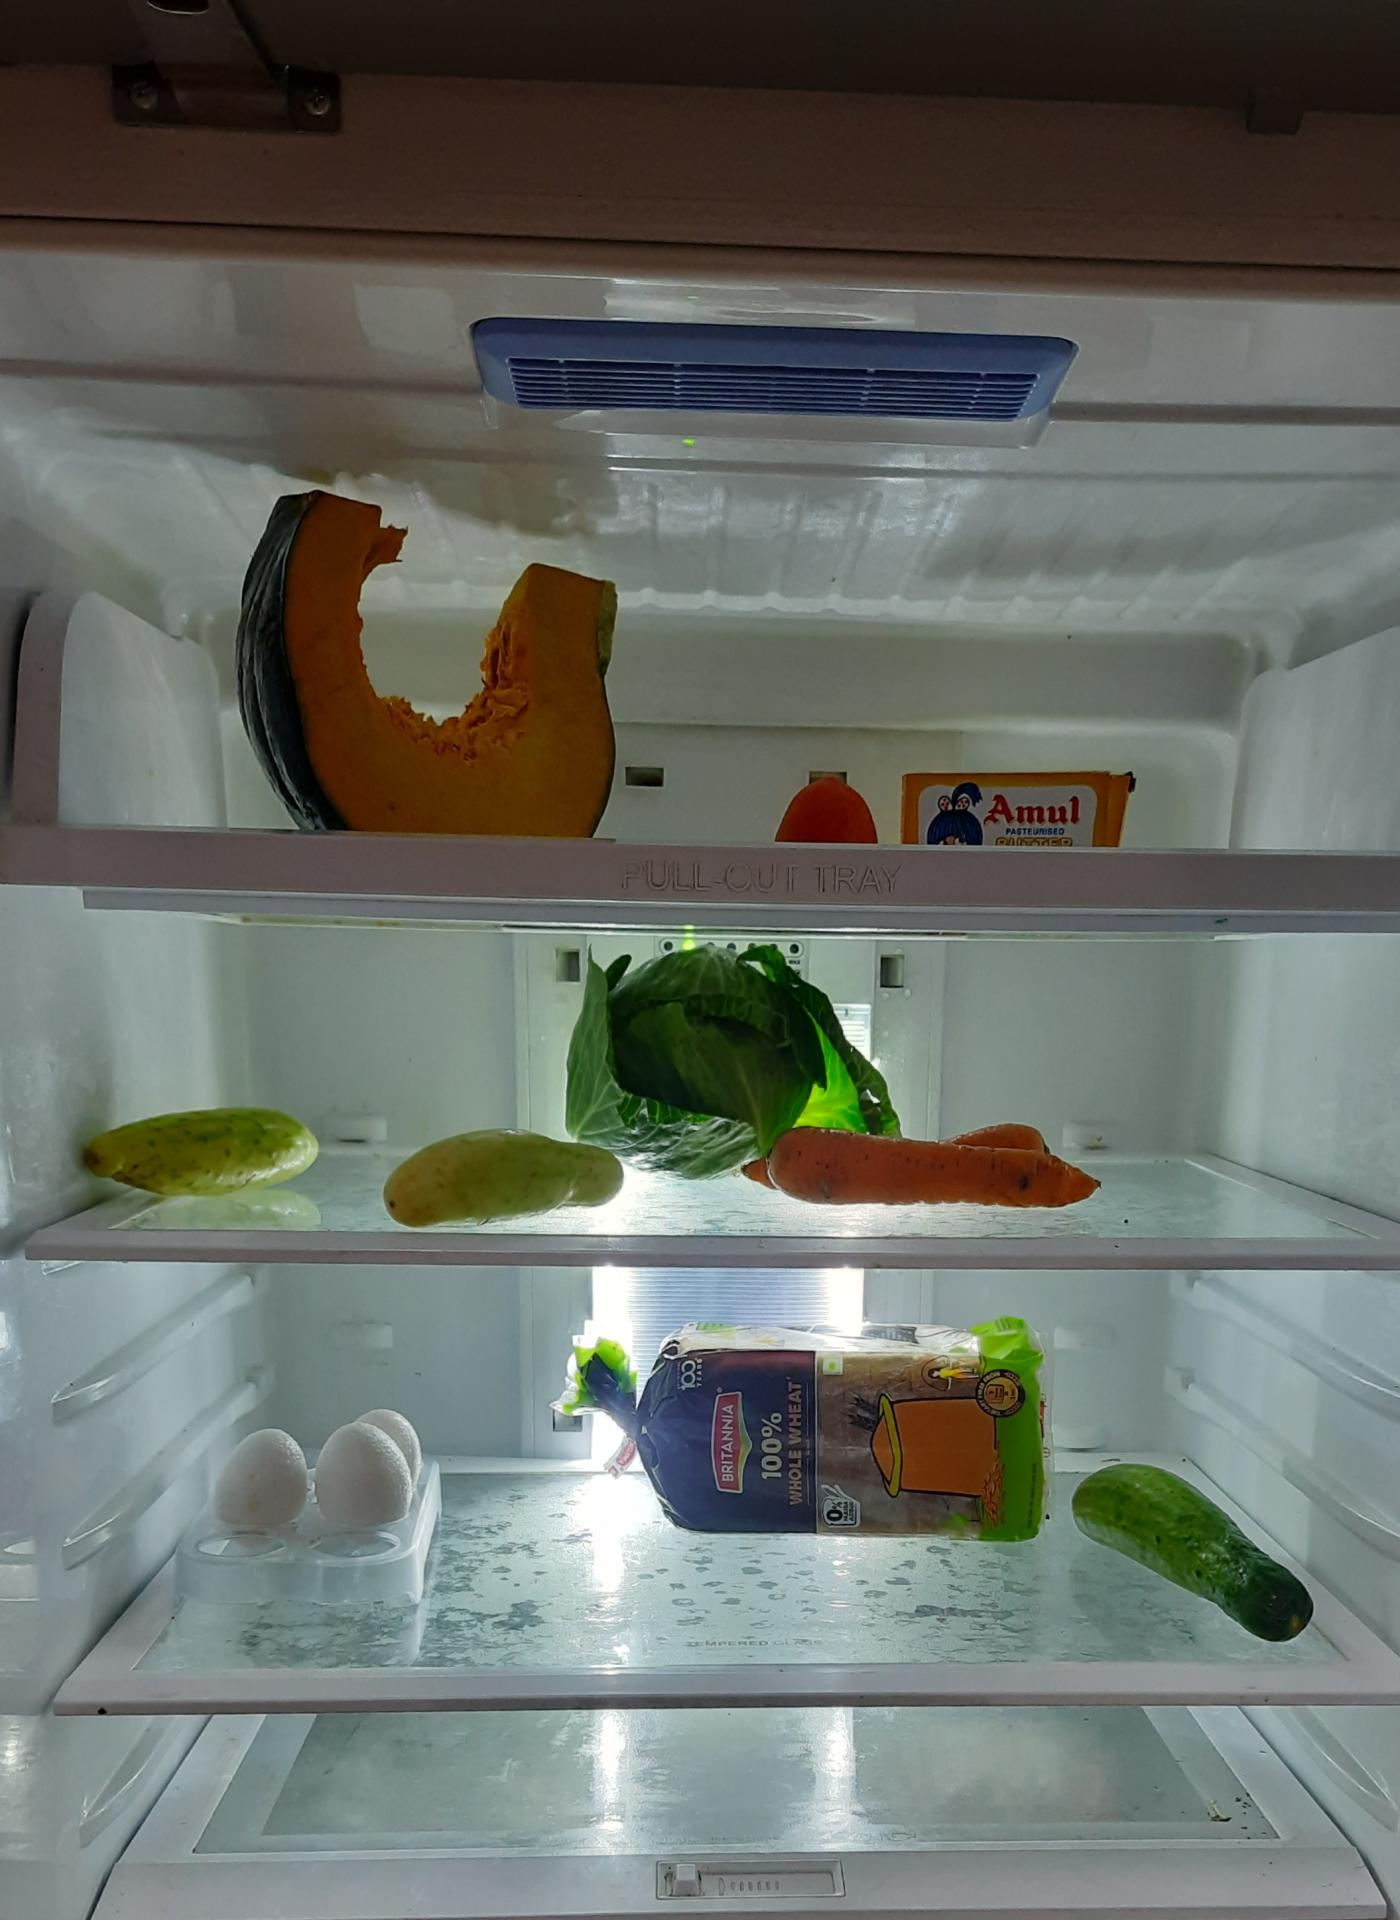bread: (599, 1331, 1053, 1546)
butter: (904, 766, 1141, 859)
cabbage: (571, 950, 887, 1175)
carrots: (738, 1117, 1094, 1201)
cucumber: (1062, 1467, 1321, 1650), (377, 1128, 625, 1225), (76, 1105, 321, 1199)
egg: (212, 1407, 431, 1546)
pumpkin: (242, 474, 640, 838)
tomato: (772, 775, 880, 848)
